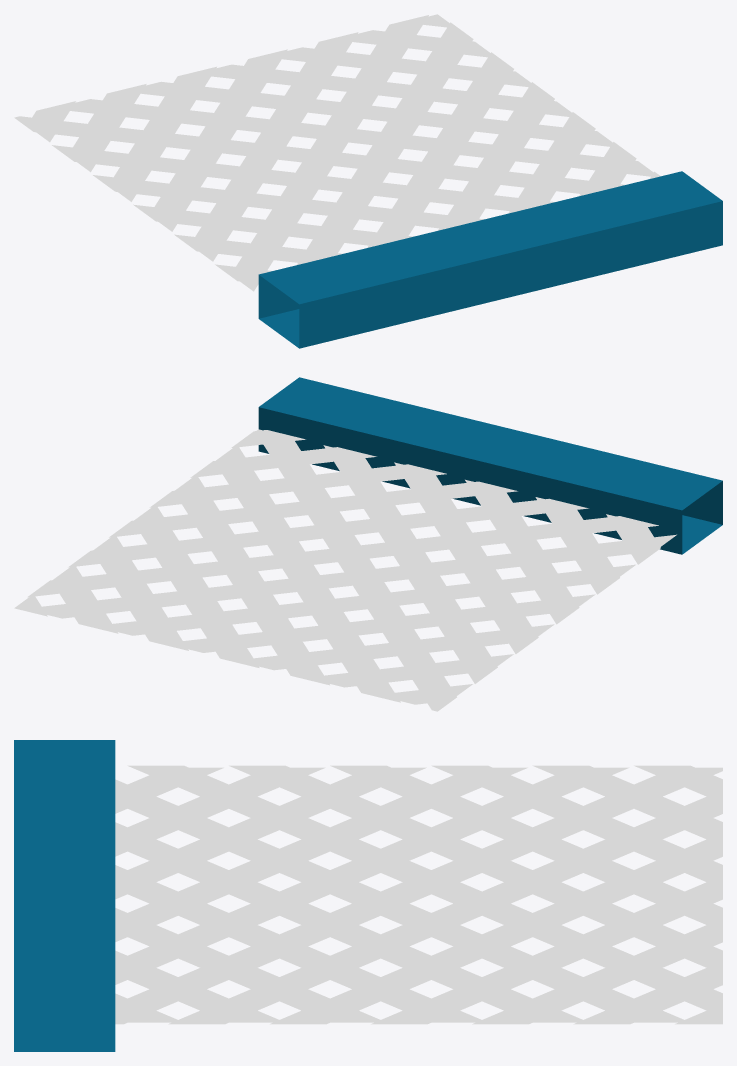
File: G02_023_Floor_Mesh_WAS.fbx
The picture shows the model from 3 angles, top to bottom: view 1: azimuth 30°, elevation 25°; view 2: azimuth 150°, elevation 25°; view 3: azimuth 270°, elevation 25°; orthographic projection. The views are drawn at different scales.
Visible parts, largest first — view 1: 平面.006, 009_Mesh_WS_B.002; view 2: 平面.006, 009_Mesh_WS_B.002; view 3: 平面.006, 009_Mesh_WS_B.002.
Boxes of the visible parts, box(x1,y1,x2,y2) form: 平面.006: box(14, 14, 660, 291); 009_Mesh_WS_B.002: box(258, 171, 722, 348); 平面.006: box(14, 429, 676, 711); 009_Mesh_WS_B.002: box(258, 377, 722, 554); 平面.006: box(115, 765, 722, 1024); 009_Mesh_WS_B.002: box(14, 740, 115, 1051).
Size of the model in its own units: 300 by 30 by 350.
